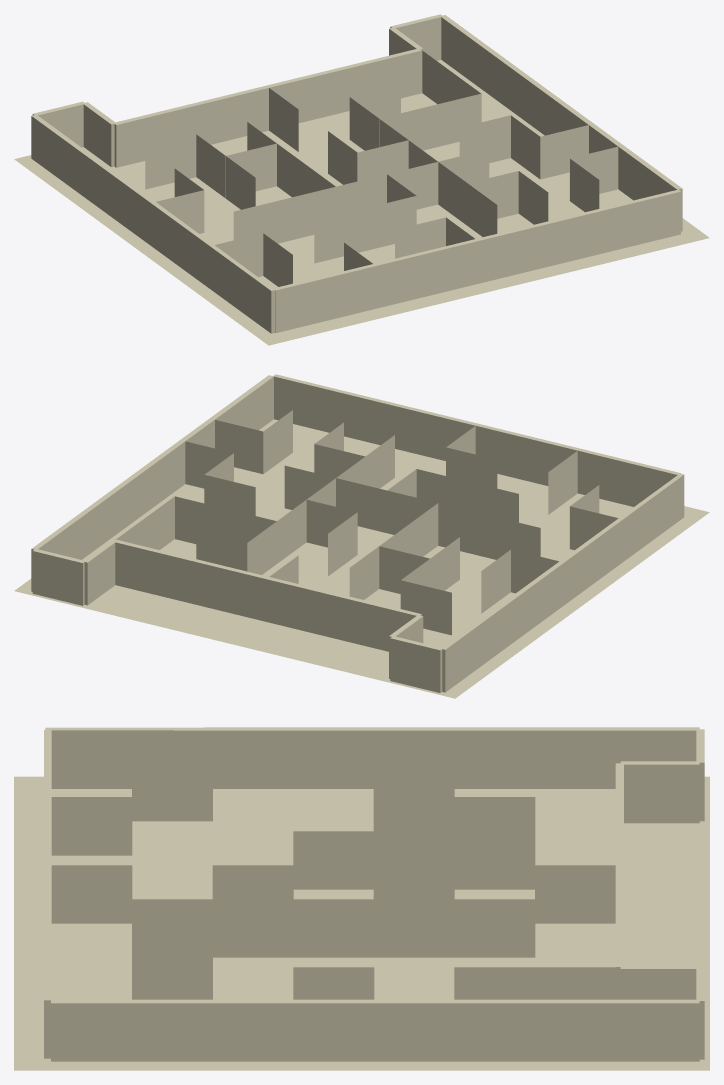
The model's file is labyrinthe.dae.
3 views of the same model, one above another, from view 1: azimuth 30°, elevation 25°; view 2: azimuth 150°, elevation 25°; view 3: azimuth 270°, elevation 25° (orthographic). The views are drawn at different scales.
Parts seen in each view (by area): view 1: Cube; view 2: Cube; view 3: Cube.
Boxes of the visible parts, x1=… form: Cube: x1=14, y1=14, x2=709, y2=345; Cube: x1=14, y1=374, x2=709, y2=698; Cube: x1=14, y1=727, x2=709, y2=1070.
Size of the model in its own units: 86.37 by 86.37 by 8.
